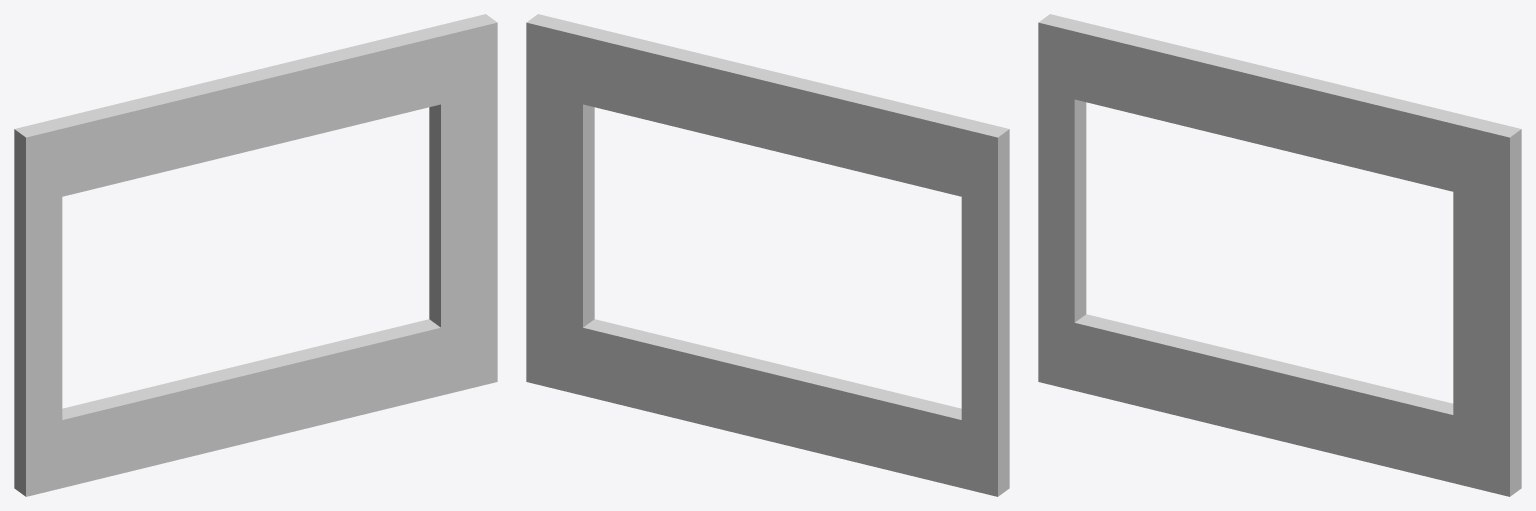
File: Microwave_New_B.fbx
3 renders of one model, left to right at view 1: azimuth 30°, elevation 25°; view 2: azimuth 150°, elevation 25°; view 3: azimuth 330°, elevation 25°, orthographic.
Parts seen in each view (by area): view 1: Microwave_New_B; view 2: Microwave_New_B; view 3: Microwave_New_B.
Part boxes in pixels (left/top/right/bottom): Microwave_New_B: left=14, top=14, right=497, bottom=496; Microwave_New_B: left=526, top=14, right=1009, bottom=496; Microwave_New_B: left=1038, top=14, right=1521, bottom=496.
Size of the model in its own units: 62.02 by 45.17 by 2.67.
